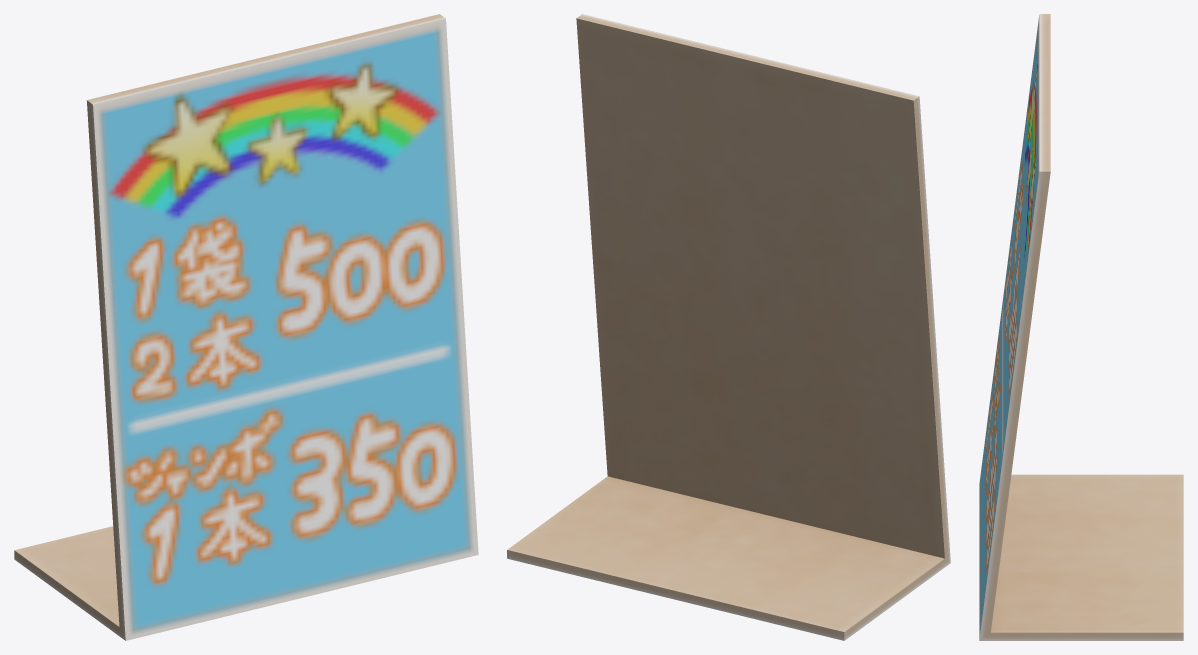
File: jsf_Flyer_CottonCandy_01.fbx
3 renders of one model, left to right at view 1: azimuth 30°, elevation 25°; view 2: azimuth 150°, elevation 25°; view 3: azimuth 270°, elevation 25°, orthographic. The views are drawn at different scales.
Parts seen in each view (by area): view 1: jsf_Flyer_CottonCandy_01; view 2: jsf_Flyer_CottonCandy_01; view 3: jsf_Flyer_CottonCandy_01.
Part boxes in pixels (<box>): jsf_Flyer_CottonCandy_01: <box>14,14,478,640</box>; jsf_Flyer_CottonCandy_01: <box>507,14,950,640</box>; jsf_Flyer_CottonCandy_01: <box>979,14,1183,640</box>.
Bounding box in the file's own units: 29.64 × 41.11 × 16.2.
